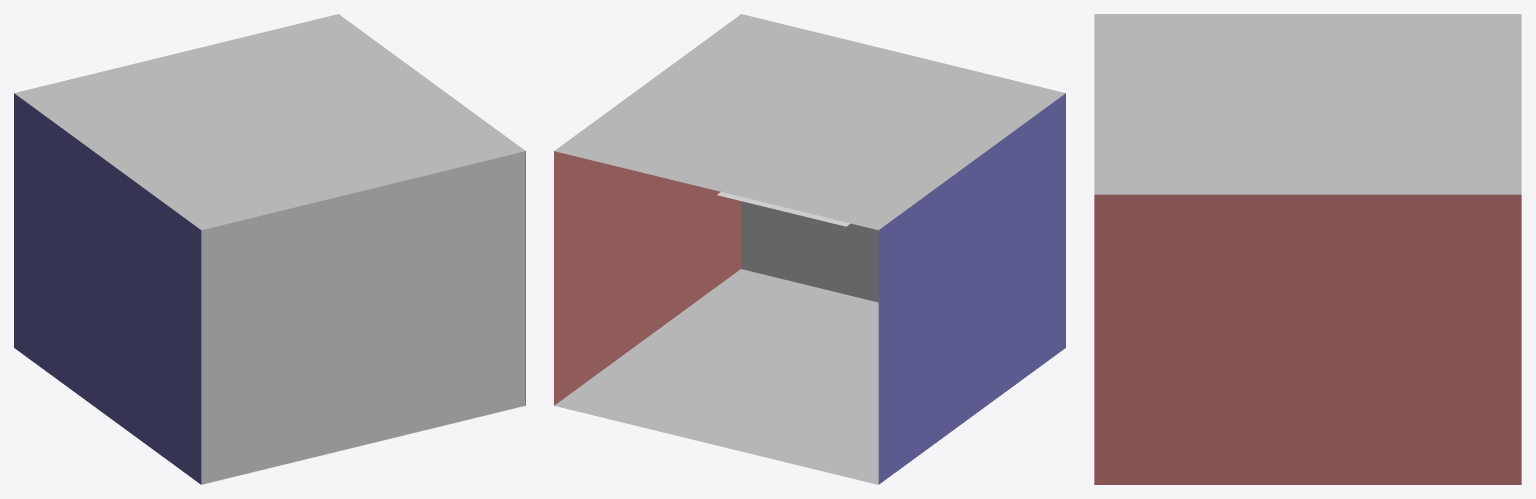
Rendered from CBspheres_lambertian_bdpt.dae.
3 views of the same model, side by side, from view 1: azimuth 30°, elevation 25°; view 2: azimuth 150°, elevation 25°; view 3: azimuth 270°, elevation 25° (orthographic). The views are drawn at different scales.
Visible parts, largest first — view 1: backWall, ceiling, rightWall; view 2: ceiling, rightWall, floor, leftWall, backWall, light; view 3: leftWall, ceiling.
Boxes of the visible parts, x1=… form: backWall: x1=201, y1=151, x2=525, y2=484; ceiling: x1=14, y1=14, x2=525, y2=230; rightWall: x1=14, y1=93, x2=201, y2=484; ceiling: x1=554, y1=14, x2=1065, y2=230; rightWall: x1=878, y1=93, x2=1065, y2=484; floor: x1=554, y1=269, x2=878, y2=484; leftWall: x1=554, y1=151, x2=740, y2=405; backWall: x1=741, y1=201, x2=878, y2=302; light: x1=717, y1=192, x2=850, y2=226; leftWall: x1=1094, y1=194, x2=1521, y2=484; ceiling: x1=1094, y1=14, x2=1521, y2=194.
Size of the model in its own units: 2 by 2 by 1.5.
